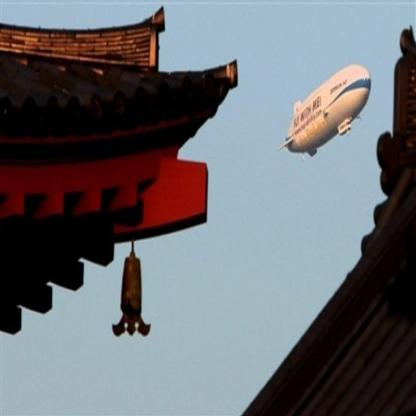Airship: (278, 64, 373, 163)
